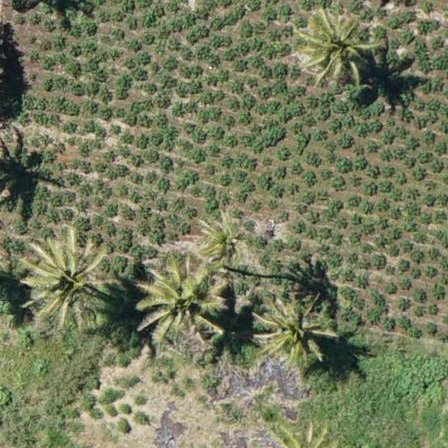palm_tree: (20, 225, 112, 322), (139, 248, 228, 342), (299, 9, 377, 85), (252, 297, 333, 369)
